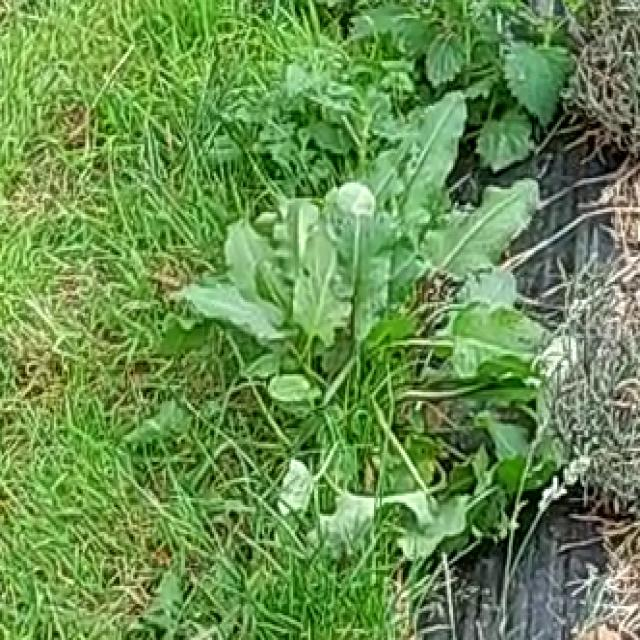organic waste: (170, 117, 609, 482)
